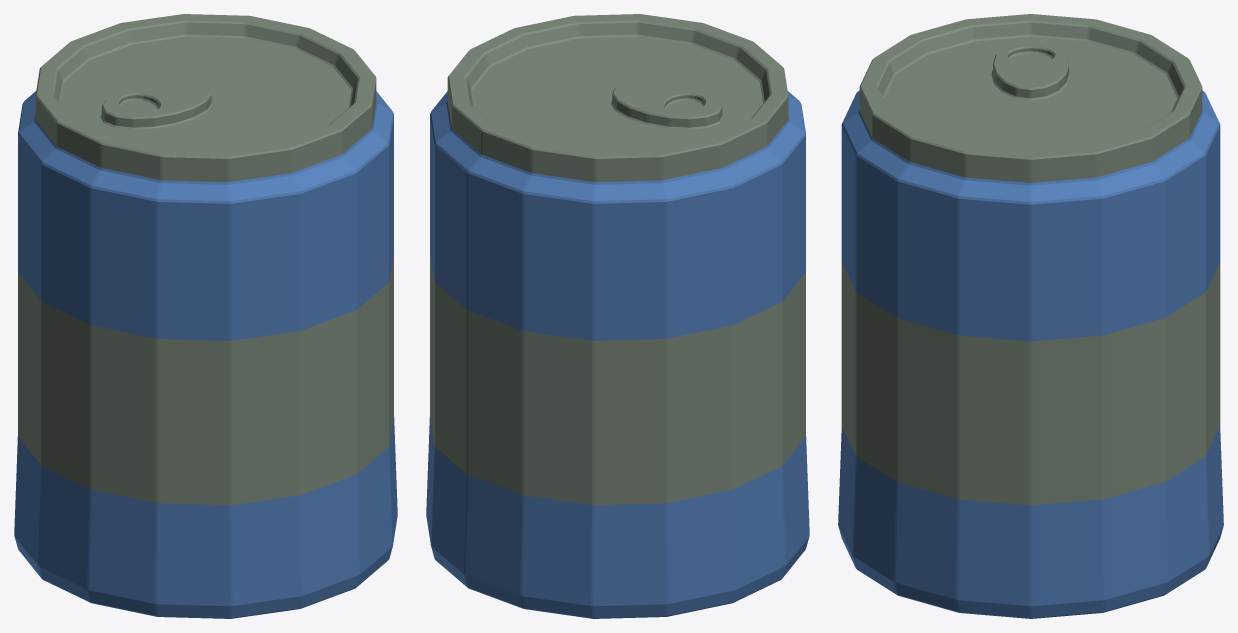
File: Can_6_Partyassets.fbx
3 views of the same model, side by side, from view 1: azimuth 30°, elevation 25°; view 2: azimuth 150°, elevation 25°; view 3: azimuth 270°, elevation 25° (orthographic).
Visible parts, largest first — view 1: Can_6_Partyassets; view 2: Can_6_Partyassets; view 3: Can_6_Partyassets.
Boxes of the visible parts, x1=… form: Can_6_Partyassets: x1=14, y1=14, x2=397, y2=618; Can_6_Partyassets: x1=426, y1=14, x2=809, y2=618; Can_6_Partyassets: x1=838, y1=14, x2=1223, y2=618.
Size of the model in its own units: 7.56 by 9.81 by 7.56.
